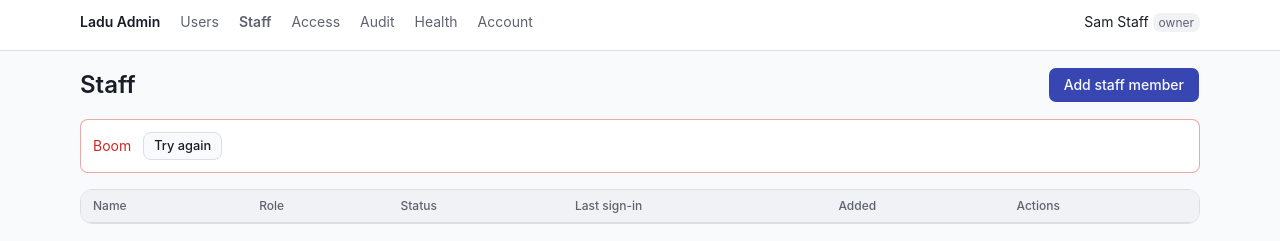
Test: the list › shows the server error and tries again
Check: the message shows "Boom", box left=93, top=137, right=131, bottom=154
Click the button "Try again" at coordinates (183, 146), box left=143, top=132, right=222, bottom=160
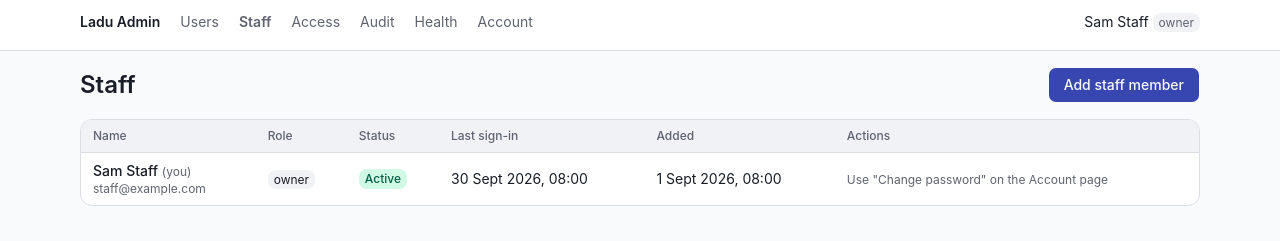
Check: the text "(you)" is shown, box left=162, top=164, right=191, bottom=179
Check: the message "Boom Try again" is gone
